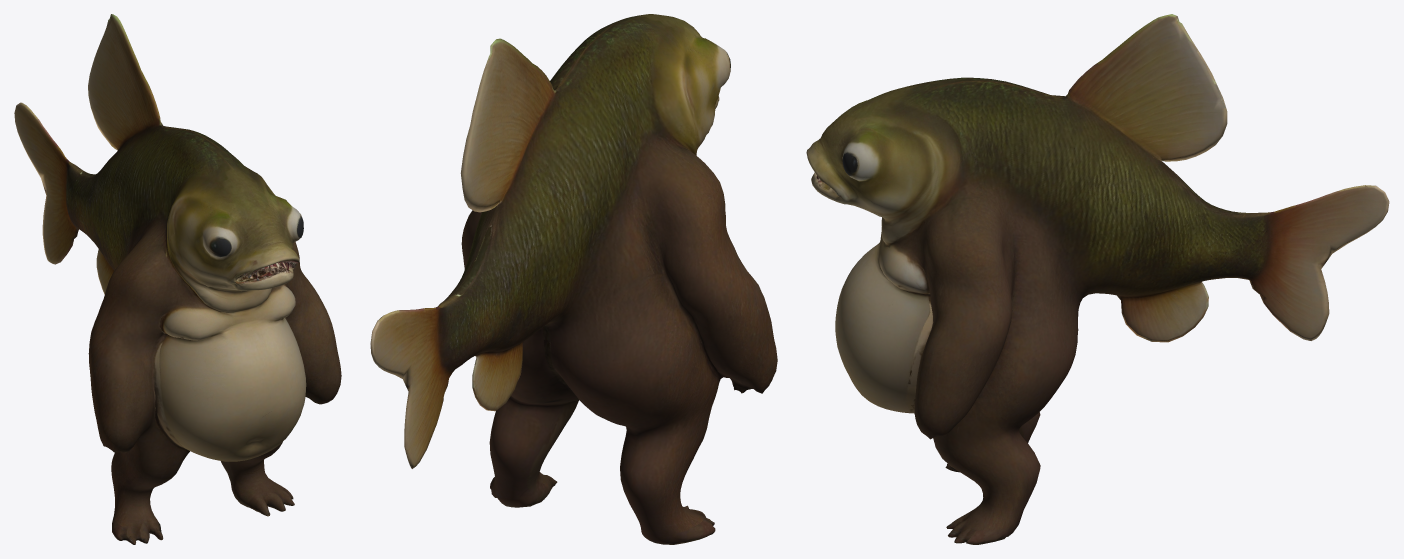
Rendered from tripi_tropi.glb.
The picture shows the model from 3 angles, left to right: view 1: azimuth 30°, elevation 25°; view 2: azimuth 150°, elevation 25°; view 3: azimuth 270°, elevation 25°; orthographic projection. The views are drawn at different scales.
Parts seen in each view (by area): view 1: Object_4; view 2: Object_4; view 3: Object_4.
Part boxes in pixels (x1,y1,x2,y2): Object_4: (14,14,341,544); Object_4: (370,14,777,544); Object_4: (806,14,1389,544).
Bounding box in the file's own units: 0.9628 × 1.71 × 1.86.
Materials: 1 (1 with a texture image).
